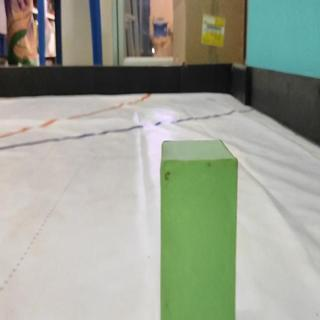greenbox: (158, 136, 241, 320)
